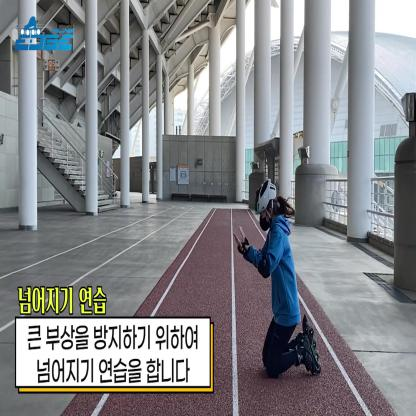Fall_Down: (233, 187, 319, 381)
